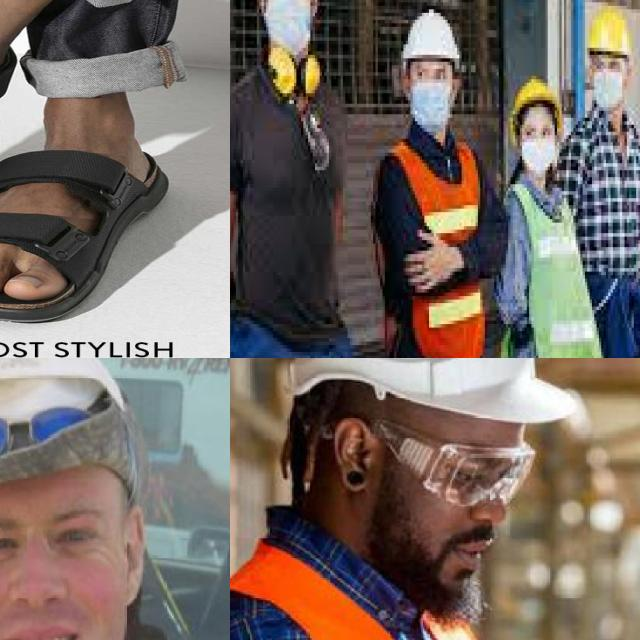Ear-protection: (264, 41, 294, 93), (301, 44, 320, 97)
No_Ear-Protection: (0, 508, 114, 565), (332, 415, 377, 494), (118, 502, 148, 612)
Sandals: (0, 107, 170, 320)
face_nomask: (0, 513, 112, 640)
glasses: (0, 413, 89, 464)
head_helmet: (0, 385, 151, 494), (396, 2, 459, 58), (580, 0, 631, 54), (506, 69, 559, 118)
head_nohelmet: (0, 360, 141, 495)
person: (230, 0, 361, 358), (376, 0, 499, 358), (489, 69, 589, 358), (561, 0, 640, 358)
vest: (379, 130, 491, 358), (499, 178, 603, 358)
